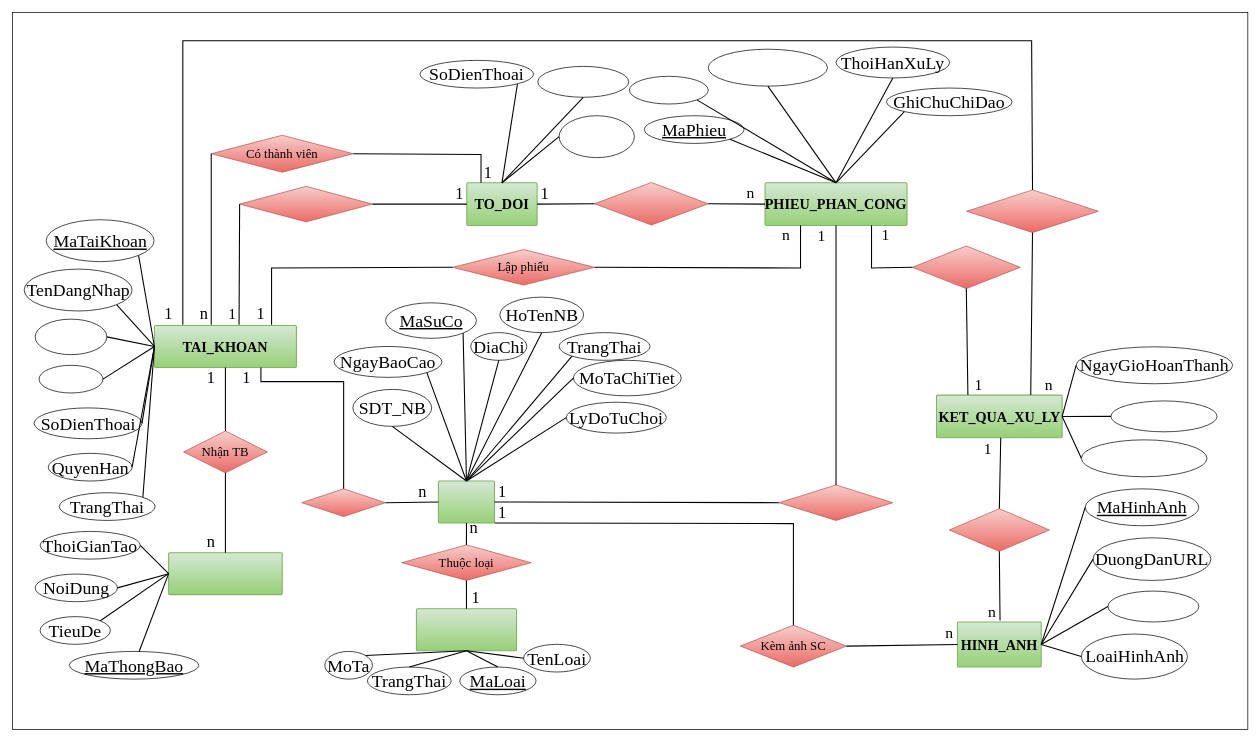
Image size: 1260x742. Some labels were removed from this diagram. The box of each missing label's shape, as (x1, y1, x2, y2) in pixels:
Cập nhật KQ: (966, 189, 1098, 233)
Duyệt: (301, 488, 386, 517)
HoTen: (38, 365, 103, 393)
KichThuoc: (1107, 590, 1199, 622)
Kèm ảnh KQ: (949, 508, 1049, 551)
LOAI_SU_CO: (416, 608, 517, 651)
Làm tổ trưởng: (239, 186, 372, 222)
MaKetQua: (1110, 400, 1217, 432)
MatKhau: (34, 318, 107, 355)
MaToDoi: (537, 66, 629, 97)
MucDoUuTien: (708, 48, 828, 86)
NgayLap: (629, 76, 708, 104)
Nghiệm thu: (912, 245, 1020, 289)
Nhận nhiệm vụ: (594, 182, 708, 225)
PhuongAnXuLy: (1081, 439, 1207, 477)
Phát sinh: (779, 484, 893, 520)
SU_CO: (438, 480, 495, 523)
TenToDoi: (558, 115, 634, 158)
THONG_BAO: (168, 552, 282, 595)
